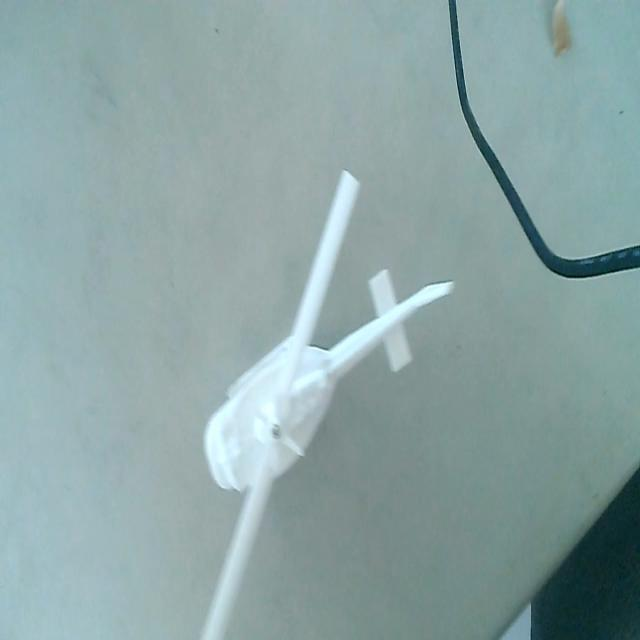Helicopter: (202, 168, 458, 640)
